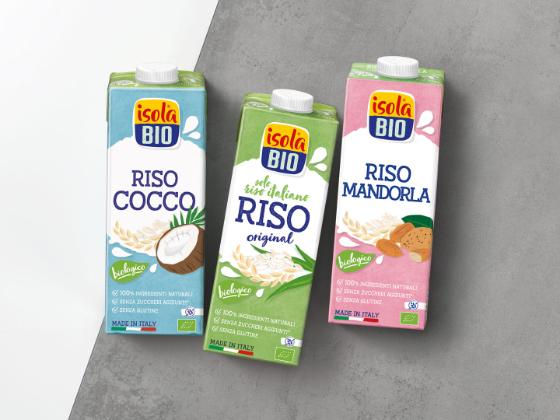cardboard: (204, 89, 337, 364), (328, 57, 443, 329), (105, 65, 205, 333)
